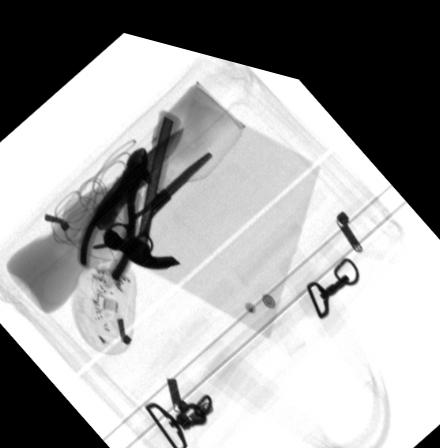Hammer: (100, 100, 180, 262)
Knife: (91, 116, 185, 226)
Pliers: (76, 138, 148, 276)
Scissors: (91, 139, 213, 251)
